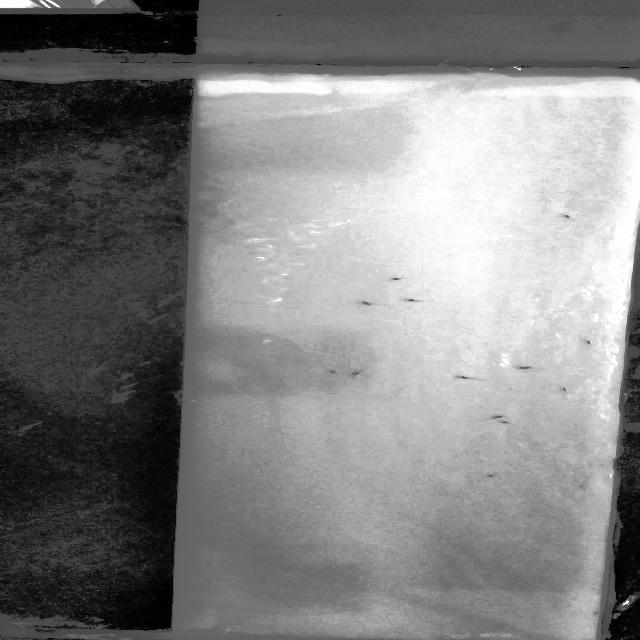shrimp: (455, 374, 479, 385), (561, 213, 580, 225), (512, 366, 534, 374), (402, 298, 430, 304), (479, 414, 505, 420), (325, 368, 342, 377), (350, 367, 365, 377), (554, 386, 574, 392), (361, 300, 378, 307), (580, 342, 597, 348), (493, 420, 513, 425), (390, 276, 404, 282)
